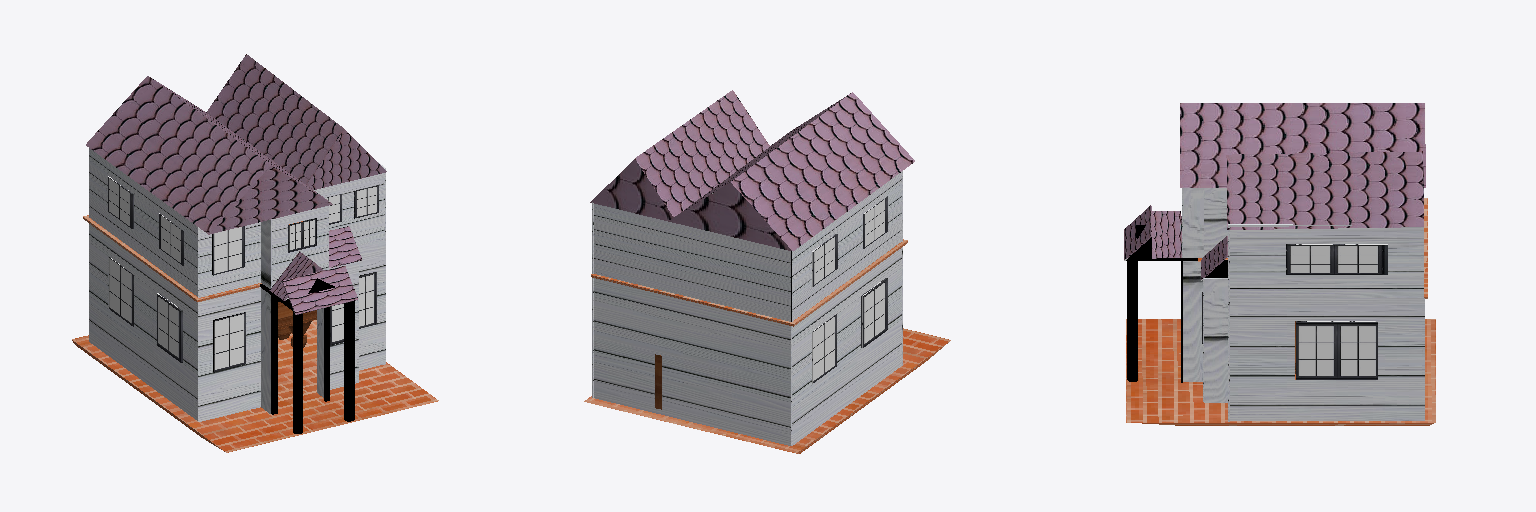
The picture shows the model from 3 angles: view 1: azimuth 30°, elevation 25°; view 2: azimuth 150°, elevation 25°; view 3: azimuth 270°, elevation 25°; orthographic projection.
Visible parts, largest first — view 1: pPrism3, pCube1, pPrism4, pCube62, pCube64, pCube82, pCube79, pCube70, pCube80, pCube76, pCube71, pCube66 (+19 smaller); view 2: pCube61, pPrism3, pCube81, pPrism4, pCube62, pCube82, pCube1, pCube63, pCube238, pCube227, pCube229, pCube231; view 3: pCube73, pPrism4, pPrism3, pCube83, pCube1, pCube236, pCube67, pCube228, pCube74, pPrism1, pCube77, casa_pCylinder2 (+2 smaller).
Part boxes in pixels (bbox=[...]): pPrism3: bbox=[86, 76, 332, 234]; pCube1: bbox=[72, 320, 438, 452]; pPrism4: bbox=[206, 54, 386, 189]; pCube62: bbox=[89, 224, 197, 420]; pCube64: bbox=[198, 287, 260, 421]; pCube82: bbox=[89, 148, 197, 296]; pCube79: bbox=[198, 222, 260, 297]; pCube70: bbox=[358, 241, 385, 370]; pCube80: bbox=[314, 168, 384, 247]; pCube76: bbox=[272, 206, 328, 285]; pCube71: bbox=[282, 266, 357, 314]; pCube66: bbox=[261, 219, 271, 413]; pCube61: bbox=[594, 278, 791, 445]; pPrism3: bbox=[668, 92, 914, 250]; pCube81: bbox=[594, 204, 791, 321]; pPrism4: bbox=[590, 90, 769, 220]; pCube62: bbox=[792, 248, 901, 445]; pCube82: bbox=[792, 172, 901, 321]; pCube1: bbox=[584, 328, 950, 453]; pCube63: bbox=[591, 239, 907, 326]; pCube238: bbox=[861, 278, 887, 347]; pCube227: bbox=[812, 314, 836, 383]; pCube229: bbox=[812, 234, 837, 286]; pCube231: bbox=[863, 196, 887, 248]; pCube73: bbox=[1230, 298, 1424, 420]; pPrism4: bbox=[1226, 151, 1423, 229]; pPrism3: bbox=[1180, 103, 1425, 187]; pCube83: bbox=[1228, 224, 1423, 297]; pCube1: bbox=[1126, 319, 1435, 425]; pCube236: bbox=[1296, 321, 1377, 379]; pCube67: bbox=[1183, 188, 1203, 381]; pCube228: bbox=[1286, 244, 1387, 274]; pCube74: bbox=[1204, 278, 1227, 402]; pPrism1: bbox=[1151, 211, 1181, 258]; pCube77: bbox=[1204, 188, 1227, 257]; casa_pCylinder2: bbox=[1127, 261, 1137, 381].
Size of the model in its own units: 24.39 by 29.75 by 30.96.
Materials: 31 (10 with a texture image).